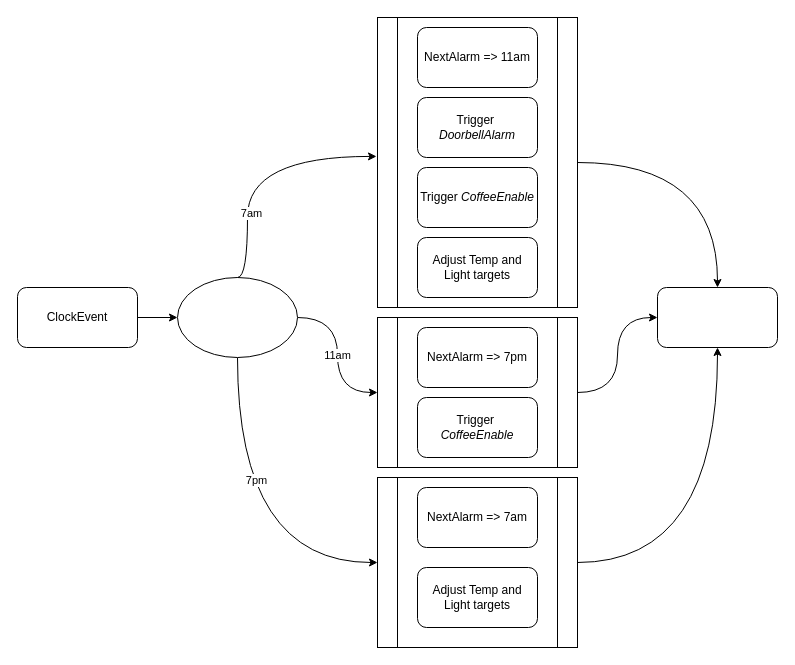
Image size: 795x665. Some labels were removed from this diagram. The shapes that lost their labels are listed below. From the top down, each one's centre as x and y in pixels, then its label:
(237,317): WhichAlarm?
(717,317): Idle
